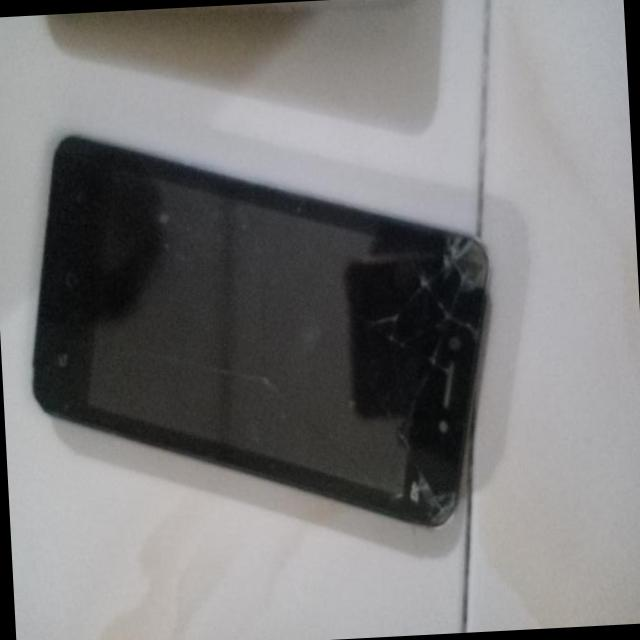screen crack: (421, 202, 509, 318), (388, 454, 482, 554), (192, 334, 292, 414)
